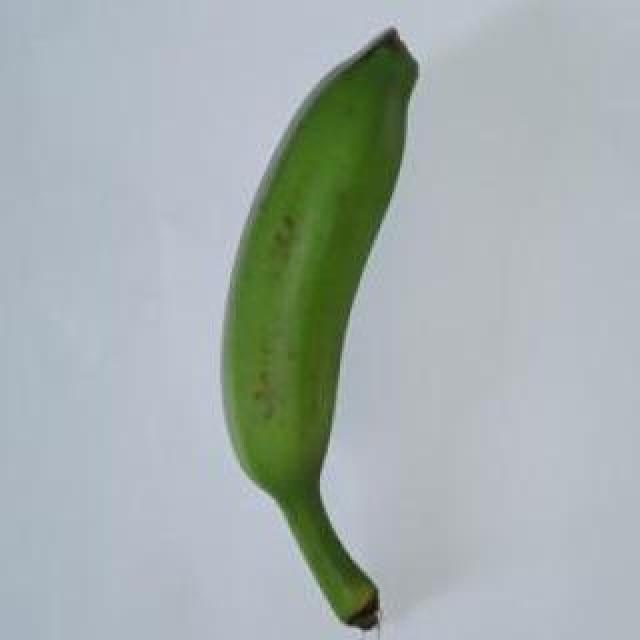Unripe: (220, 23, 422, 628)
